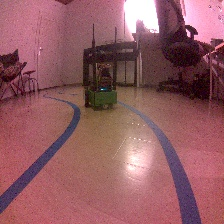rob: (82, 63, 117, 110)
